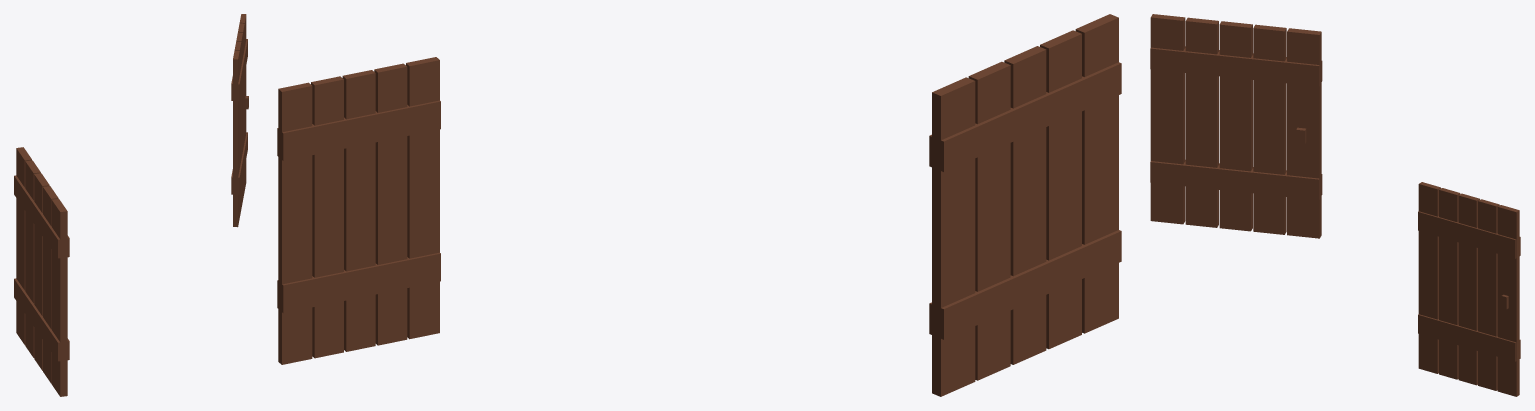
File: door_open.glb
The picture shows the model from 3 angles, left to right: view 1: azimuth 30°, elevation 25°; view 2: azimuth 150°, elevation 25°; view 3: azimuth 270°, elevation 25°; orthographic projection. The views are drawn at different scales.
Visible parts, largest first — view 1: Door.Open_tcollider.001, Door.Open_tcollider; view 2: Door.Open_tcollider.001, Door.Open_tcollider; view 3: Door.Open_tcollider.001, Door.Open_tcollider.
Part boxes in pixels (x1,y1,x2,y2): Door.Open_tcollider.001: [14, 147, 69, 396]; Door.Open_tcollider: [231, 14, 248, 227]; Door.Open_tcollider.001: [929, 14, 1121, 396]; Door.Open_tcollider: [277, 57, 440, 364]; Door.Open_tcollider.001: [1150, 14, 1322, 238]; Door.Open_tcollider: [1418, 182, 1520, 396].
Size of the model in its own units: 1.71 by 0.8503 by 1.4.
